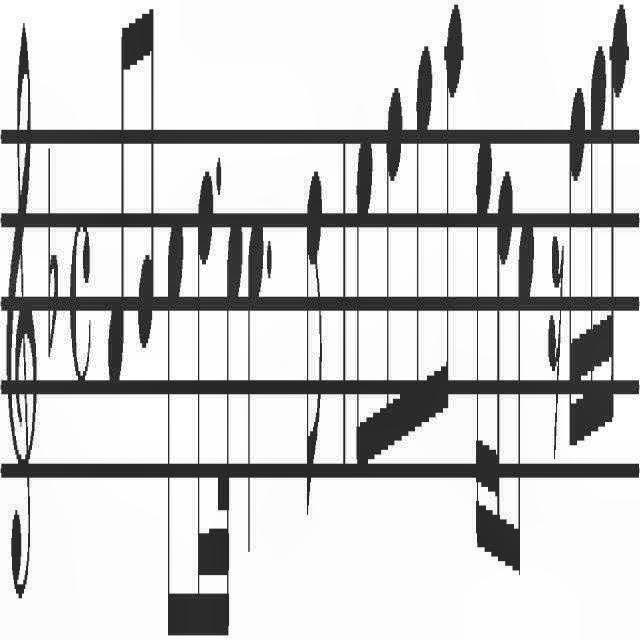Bass-clef: (1, 0, 41, 640)
Bemol: (40, 105, 60, 399)
Eighth-note: (162, 167, 188, 640), (97, 0, 127, 408), (436, 1, 464, 420), (131, 0, 159, 386), (382, 67, 406, 490), (412, 0, 432, 496), (300, 157, 326, 519), (352, 106, 376, 498), (516, 203, 534, 609)
Quarter-note: (242, 192, 266, 546)
Sixteenth-note: (191, 156, 215, 640), (586, 7, 606, 501), (609, 1, 631, 443), (566, 35, 586, 509), (473, 118, 493, 578), (494, 134, 514, 586)
